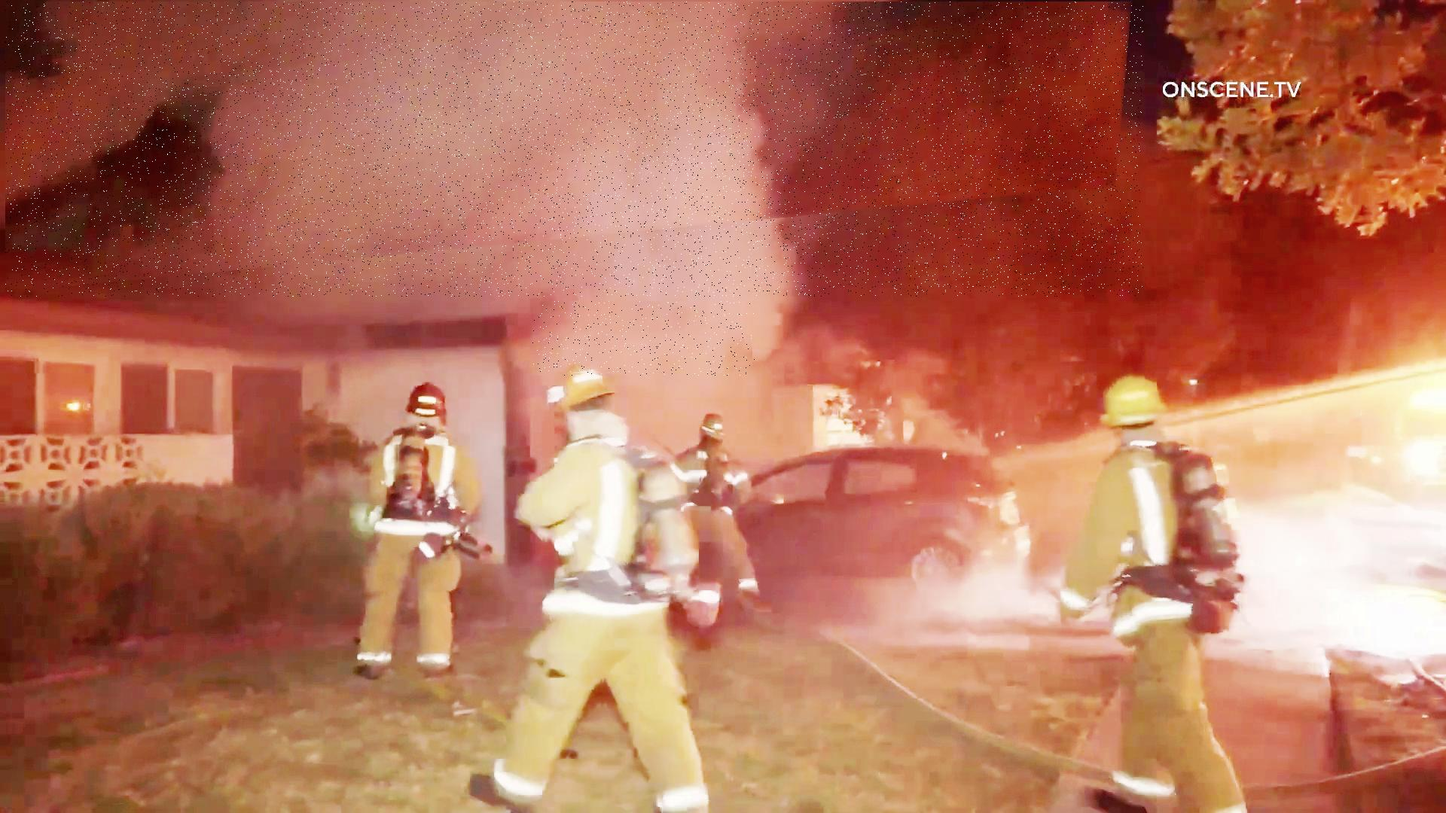smoke: (6, 2, 1144, 297), (533, 301, 755, 376)
